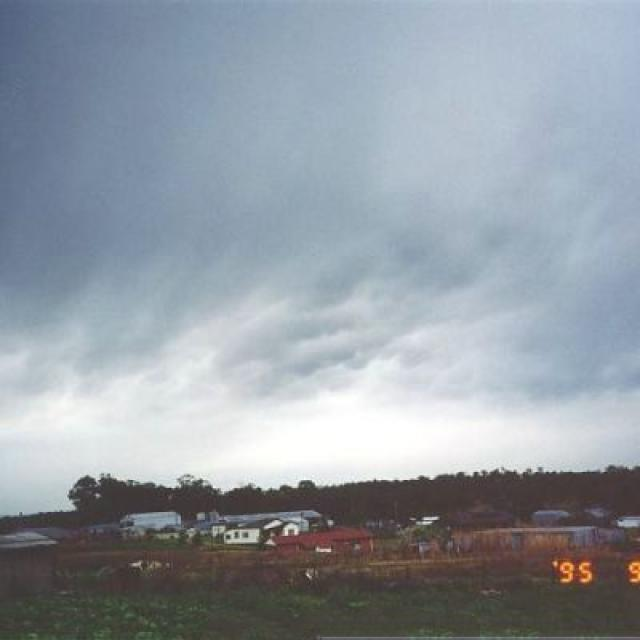Ns: (1, 104, 640, 443)
